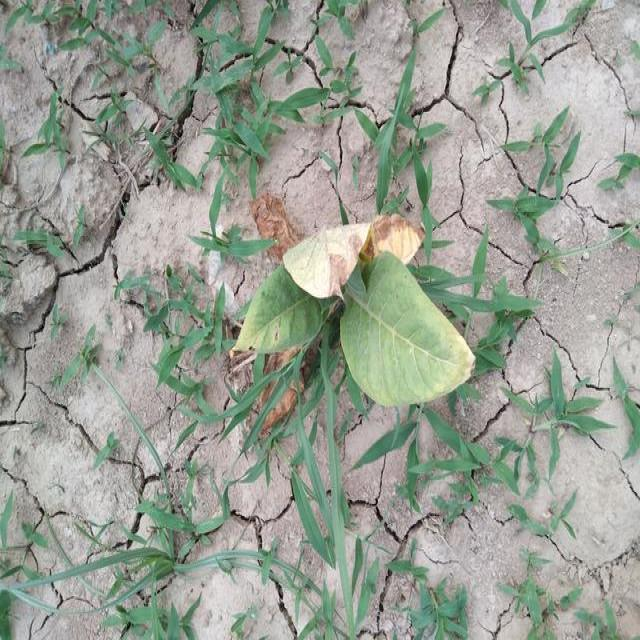crop: (217, 199, 484, 422)
